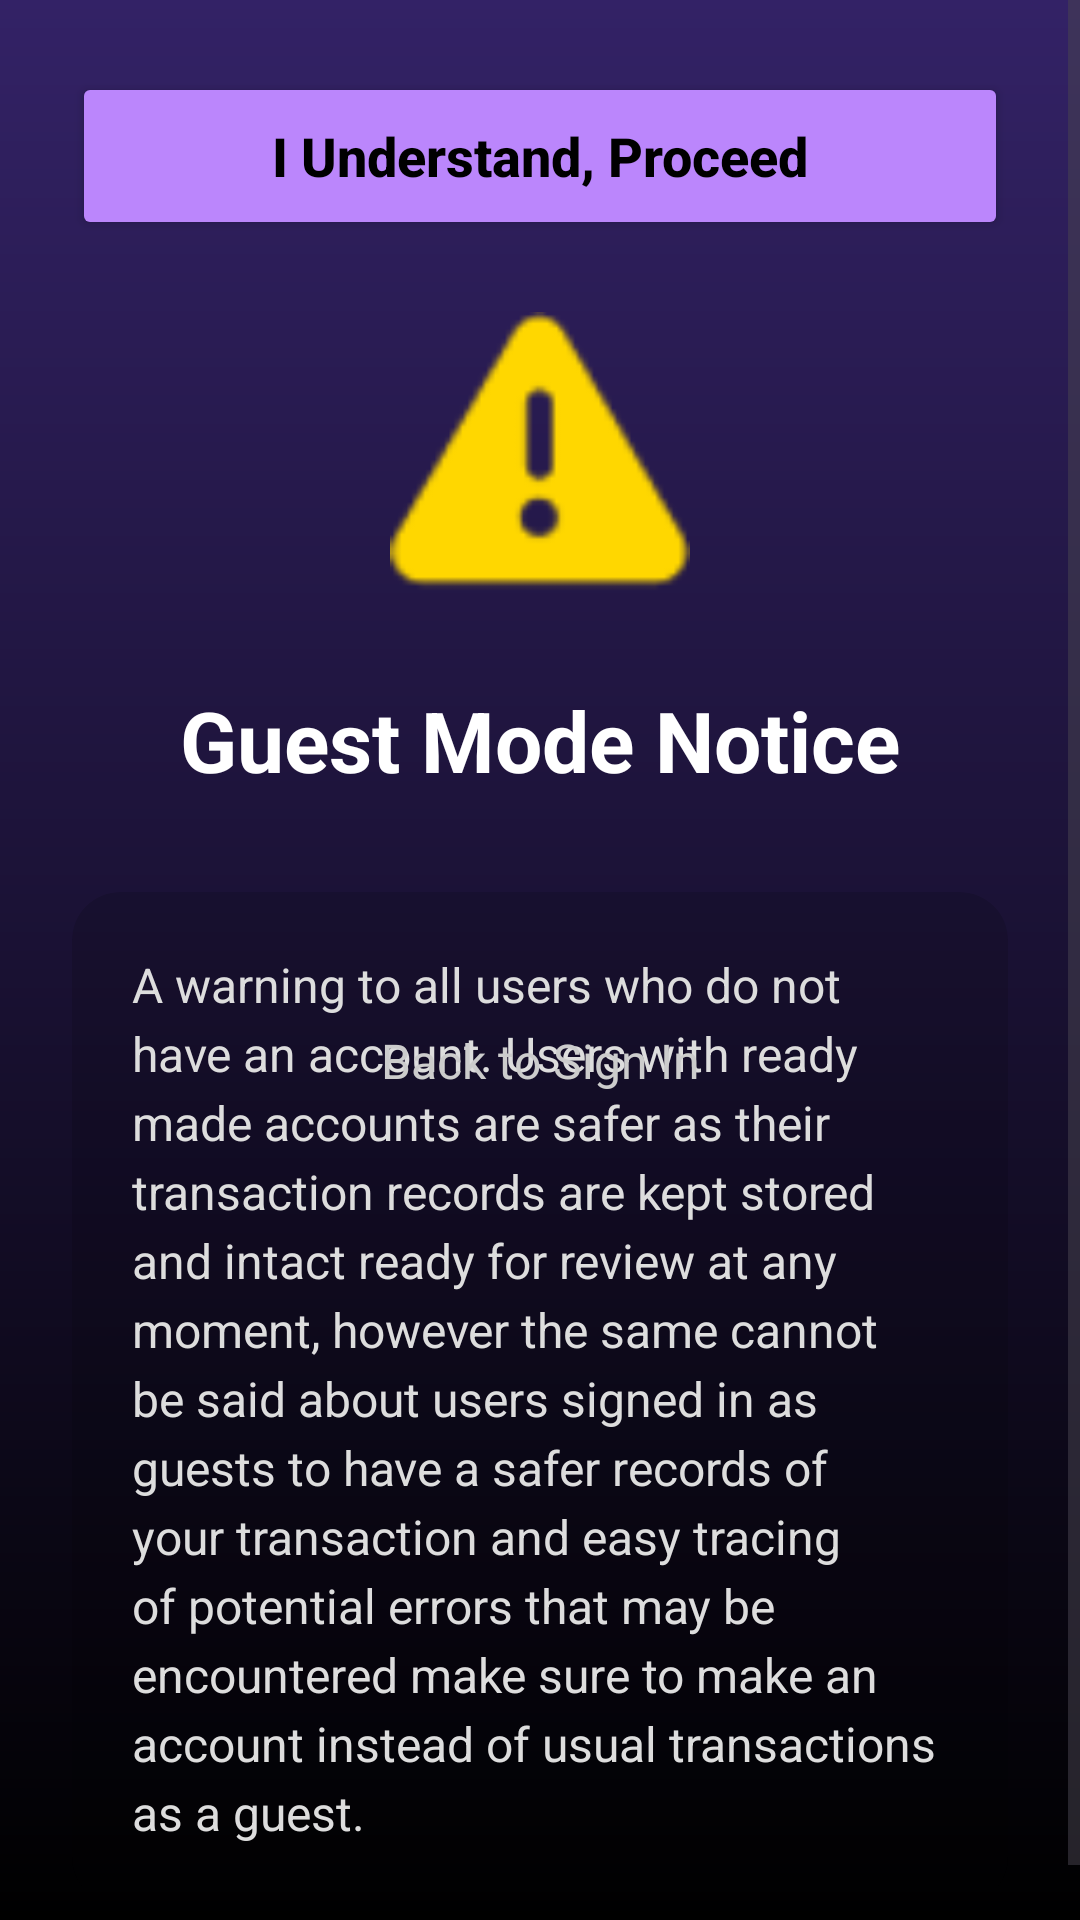

Icons on this 1080x1920 Android screen, each with its box as (x1, y1, x2, y2):
alert: (390, 312, 690, 585)
